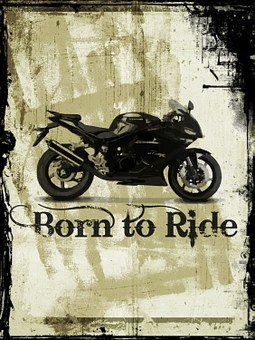motorbike: (32, 103, 223, 204)
